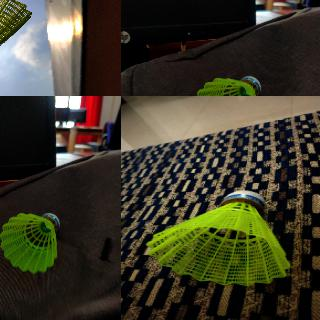shuttlecock: (146, 191, 291, 285), (0, 212, 60, 275), (0, 0, 33, 95), (194, 75, 261, 95)
